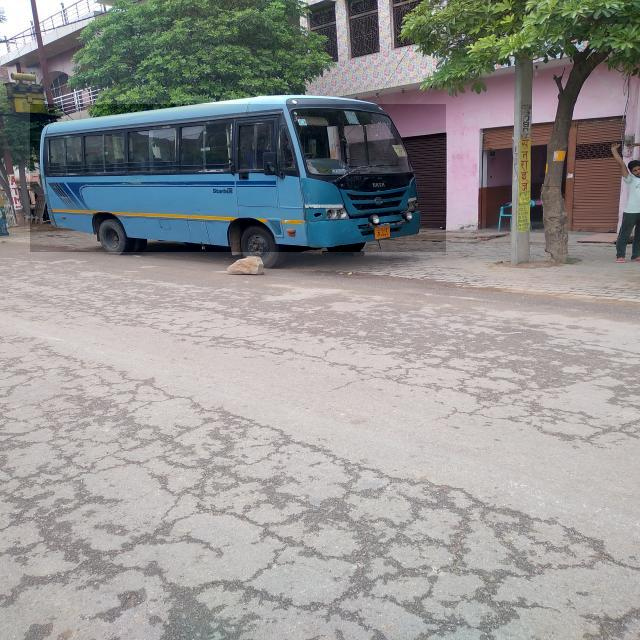Bus: (30, 104, 446, 252)
